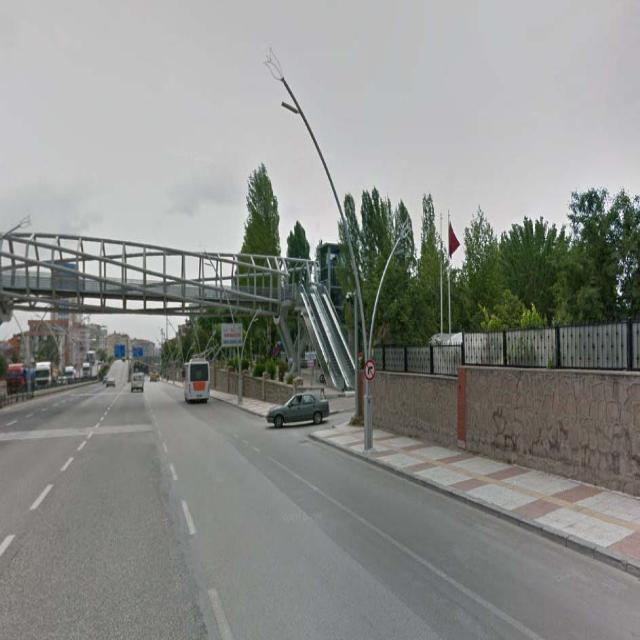sagadonulmez: (365, 361, 375, 379)
